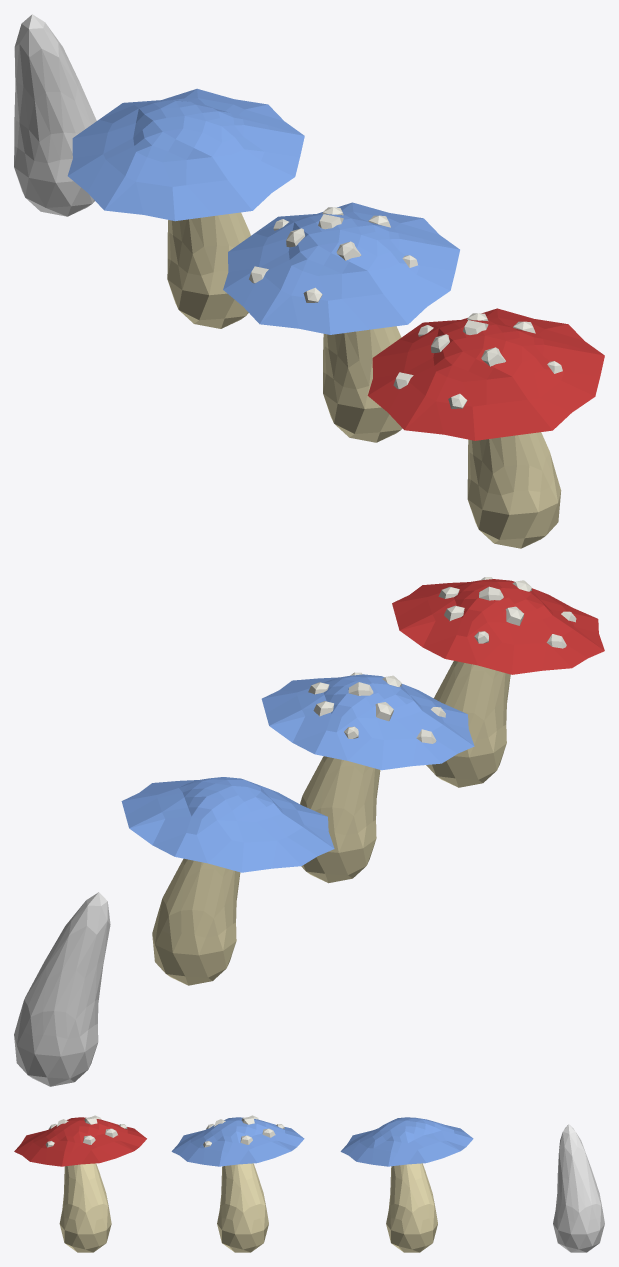
File: MushroomsV1.fbx
3 views of the same model, one above another, from view 1: azimuth 30°, elevation 25°; view 2: azimuth 150°, elevation 25°; view 3: azimuth 270°, elevation 25° (orthographic). The views are drawn at different scales.
Parts seen in each view (by area): view 1: Sphere.002, Icosphere.002, Sphere.001, Icosphere.001; view 2: Icosphere.002, Sphere.001, Sphere.002, Icosphere.001; view 3: Sphere.001, Sphere.002, Icosphere.002, Icosphere.001.
Boxes of the visible parts, <box> form: Sphere.002: <box>367,308,604,548</box>; Icosphere.002: <box>67,88,304,328</box>; Sphere.001: <box>223,202,459,442</box>; Icosphere.001: <box>14,14,96,216</box>; Icosphere.002: <box>121,777,334,985</box>; Sphere.001: <box>261,672,474,883</box>; Sphere.002: <box>392,577,604,787</box>; Icosphere.001: <box>14,892,110,1086</box>; Sphere.001: <box>171,1115,304,1252</box>; Sphere.002: <box>14,1115,146,1252</box>; Icosphere.002: <box>340,1117,473,1252</box>; Icosphere.001: <box>553,1124,604,1252</box>.
Bounding box in the file's own units: 486 × 510 × 2270.
